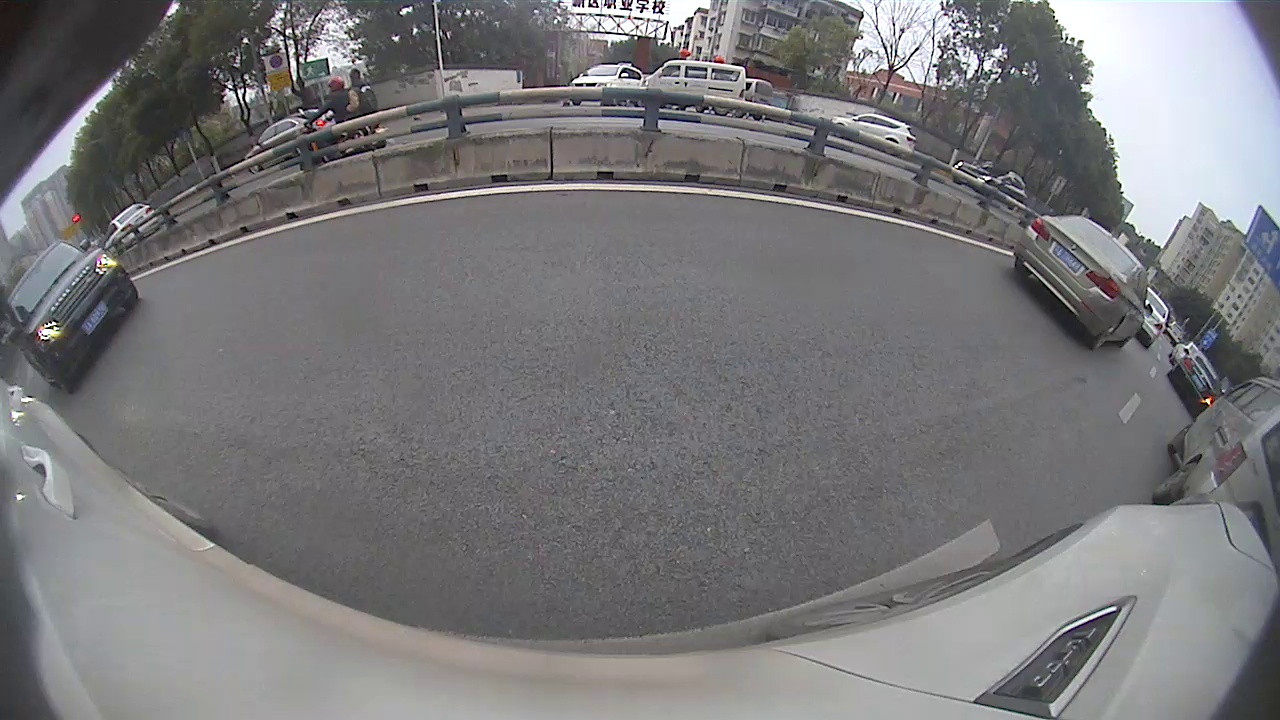car: (3, 240, 136, 398), (1010, 212, 1156, 352)
rear: (1152, 462, 1199, 501)
